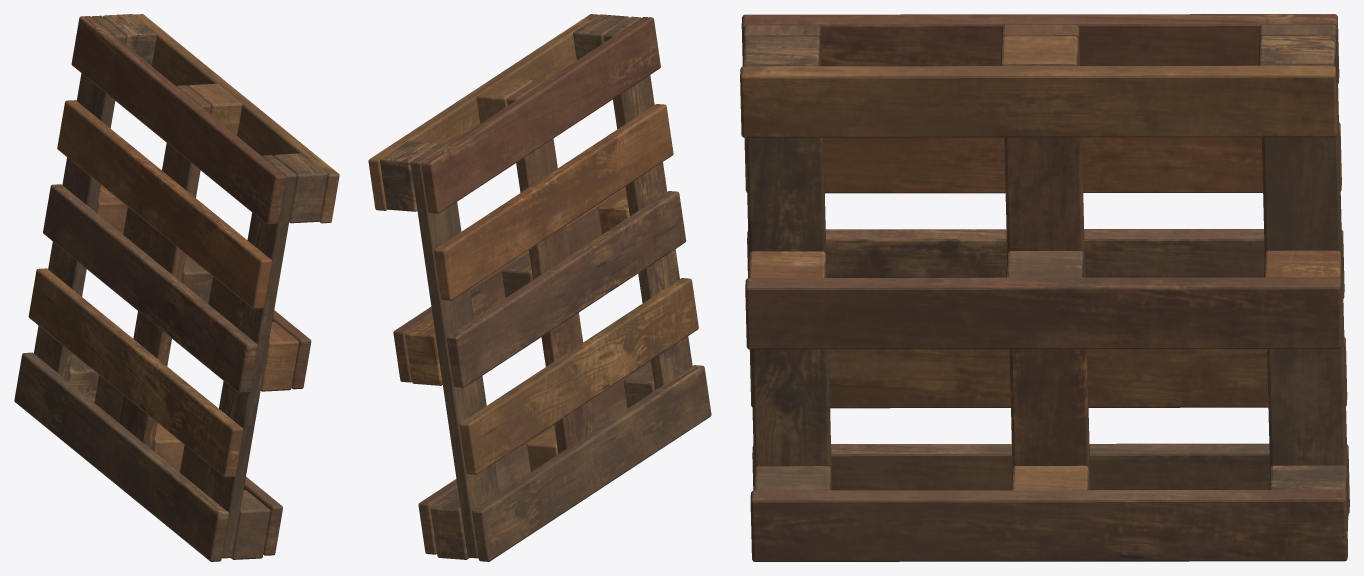
Rendered from Plank.fbx.
3 views of the same model, side by side, from view 1: azimuth 30°, elevation 25°; view 2: azimuth 150°, elevation 25°; view 3: azimuth 270°, elevation 25° (orthographic). The views are drawn at different scales.
Visible parts, largest first — view 1: palet.022; view 2: palet.022; view 3: palet.022.
Boxes of the visible parts, <box> form: palet.022: <box>14,14,339,561</box>; palet.022: <box>368,14,711,561</box>; palet.022: <box>740,14,1349,561</box>.
Bounding box in the file's own units: 33.76 × 92.56 × 91.88.
1 material, 1 textured.
